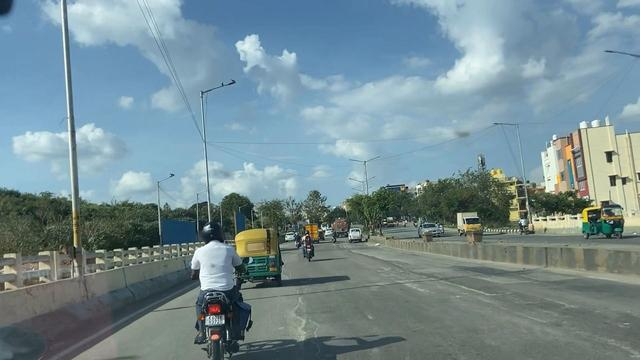RoadDamages: (392, 266, 522, 329), (276, 286, 330, 357)
